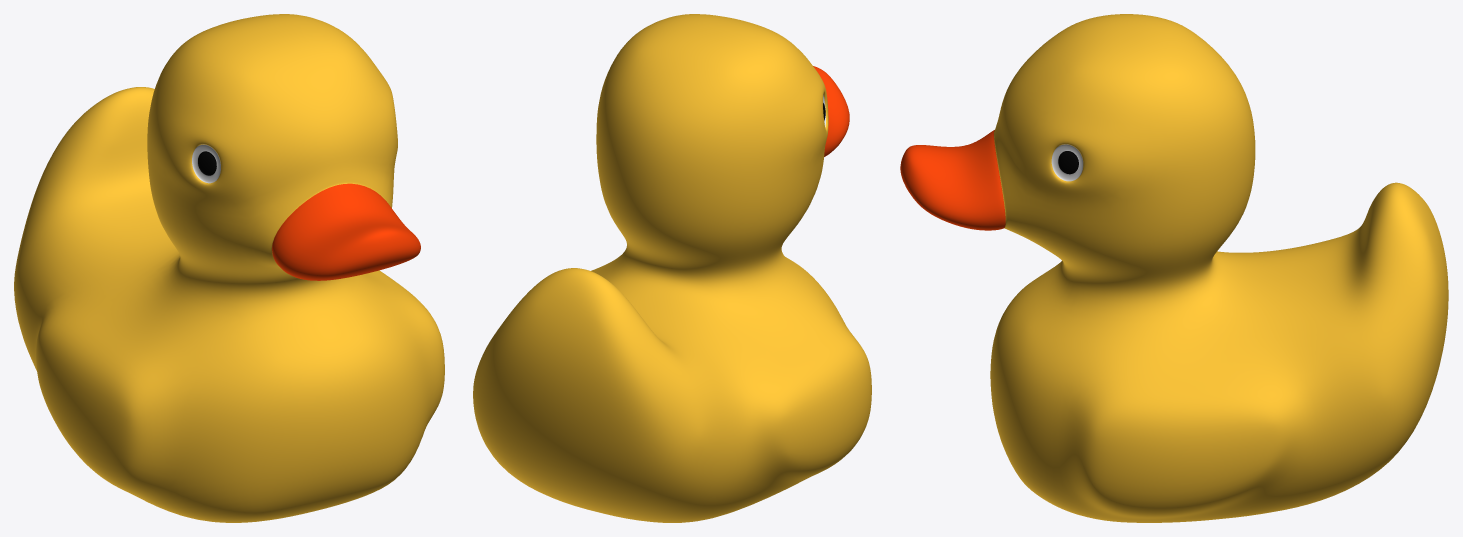
The picture shows the model from 3 angles, left to right: view 1: azimuth 30°, elevation 25°; view 2: azimuth 150°, elevation 25°; view 3: azimuth 270°, elevation 25°; orthographic projection. The views are drawn at different scales.
Parts seen in each view (by area): view 1: Rubber Duck_0; view 2: Rubber Duck_0; view 3: Rubber Duck_0.
Part boxes in pixels (x1,y1,x2,y2): Rubber Duck_0: (14, 14, 444, 522); Rubber Duck_0: (473, 14, 871, 522); Rubber Duck_0: (900, 14, 1448, 522).
Bounding box in the file's own units: 0.2369 × 0.3083 × 0.3393.
